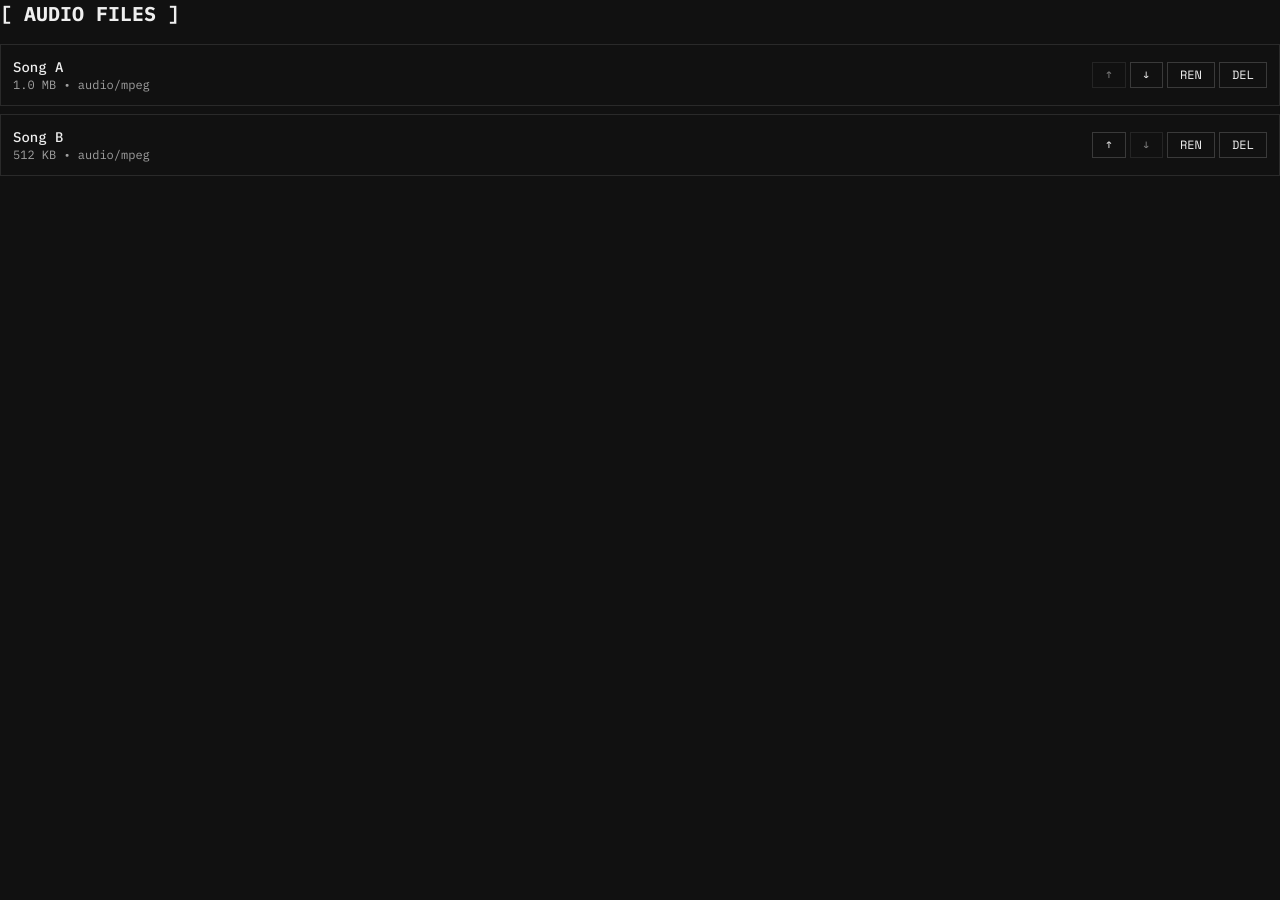
AudioManager › deletes audio after confirm
Check: the text "Song A" is shown, box [13, 58, 63, 76]
Click the button "DEL" in the row of "Song A": (1243, 75) [1219, 62, 1267, 88]
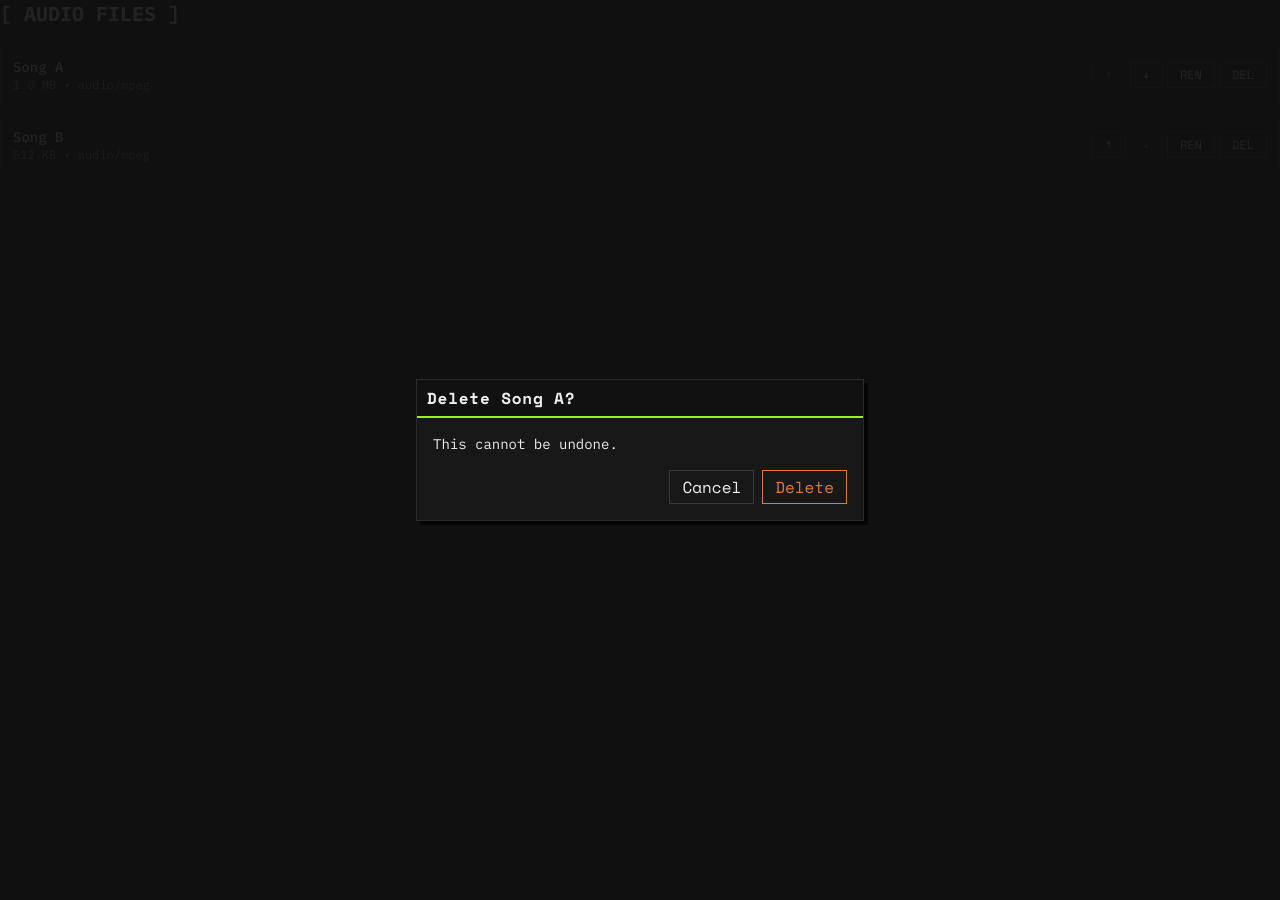
Check: the button "Delete" is shown
Click the button "Delete": (805, 487) [762, 470, 847, 504]
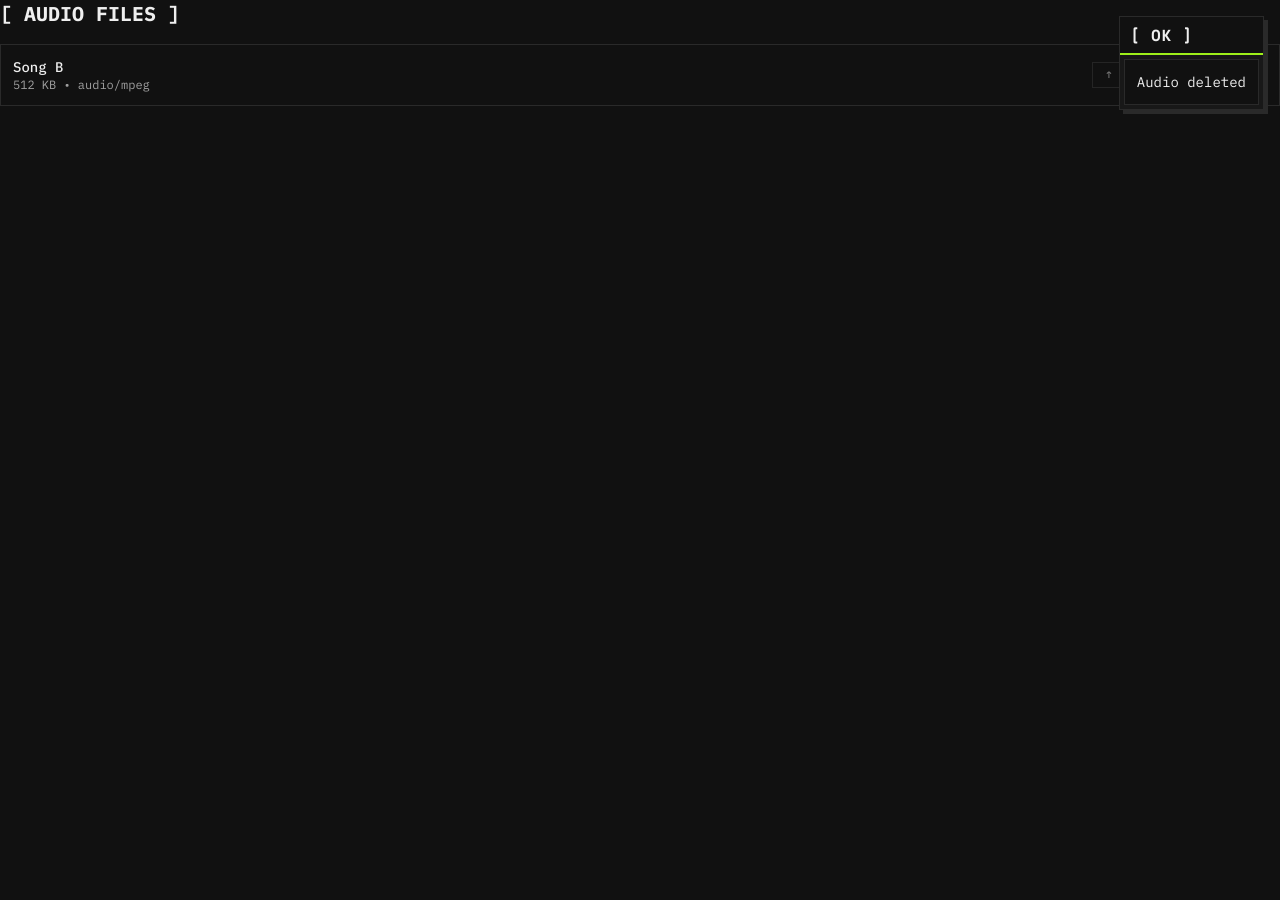
Check: the text "Song A" is gone
